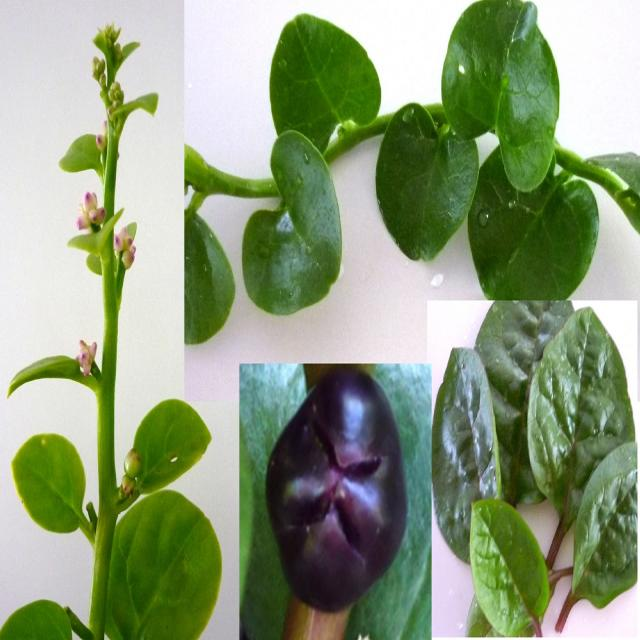Medicinal-Basale: (181, 2, 638, 302), (5, 12, 219, 640), (433, 302, 640, 640), (254, 370, 428, 640)
